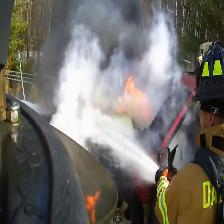smoke: (33, 0, 190, 198)
